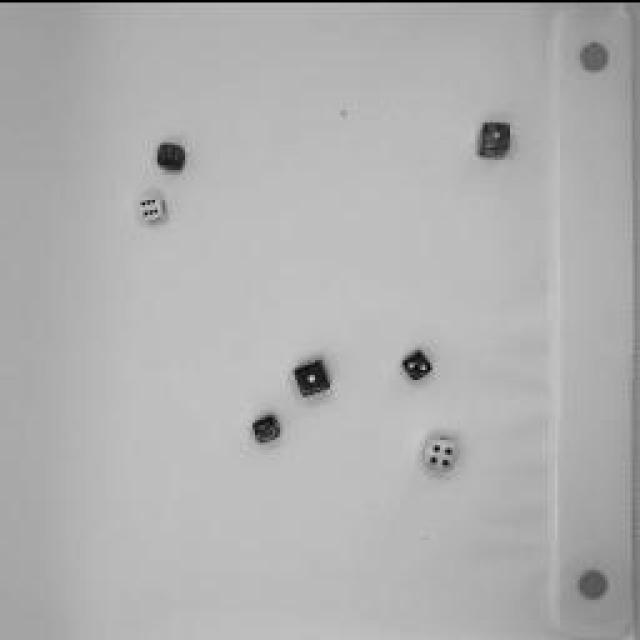dice_1: (475, 110, 515, 165), (292, 355, 336, 397)
dice_2: (401, 345, 439, 385)
dice_4: (420, 431, 460, 471)
dice_5: (250, 407, 285, 445)
dice_6: (135, 186, 173, 226), (152, 136, 190, 172)
